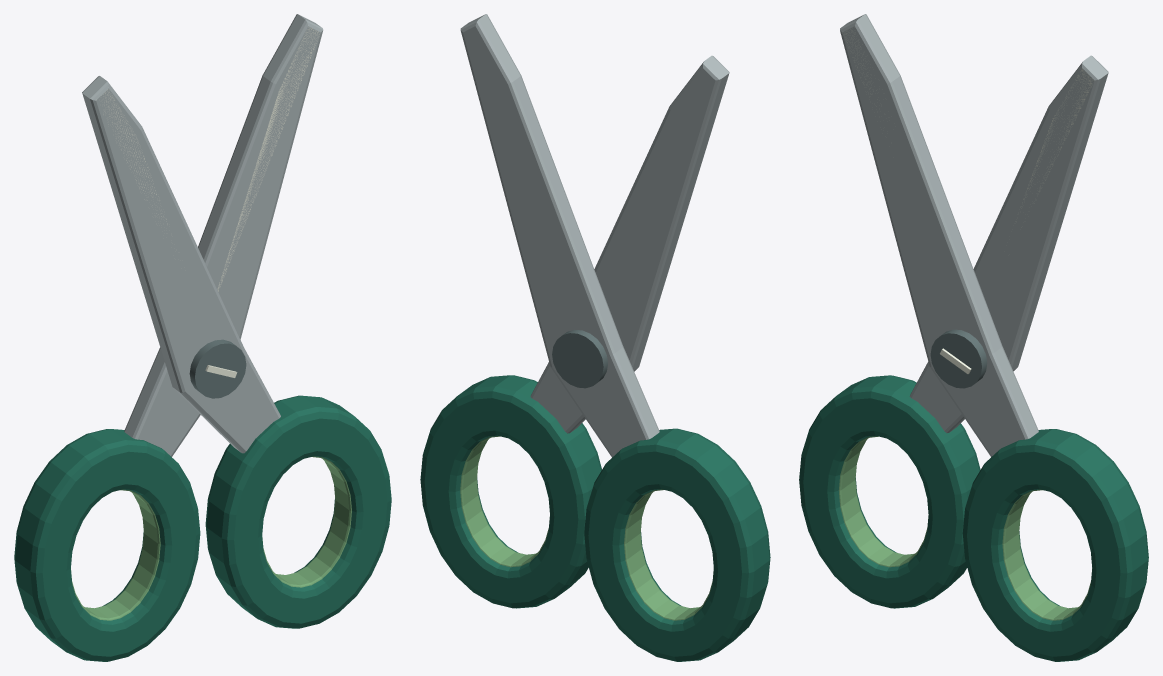
Rendered from scissors.glb.
The picture shows the model from 3 angles, left to right: view 1: azimuth 30°, elevation 25°; view 2: azimuth 150°, elevation 25°; view 3: azimuth 330°, elevation 25°; orthographic projection.
Parts seen in each view (by area): view 1: Jade handled household scissors; view 2: Jade handled household scissors; view 3: Jade handled household scissors.
Part boxes in pixels (x1,y1,x2,y2): Jade handled household scissors: [14, 14, 391, 661]; Jade handled household scissors: [420, 14, 770, 661]; Jade handled household scissors: [799, 14, 1148, 661].
Bounding box in the file's own units: 0.5781 × 0.9392 × 0.11.
